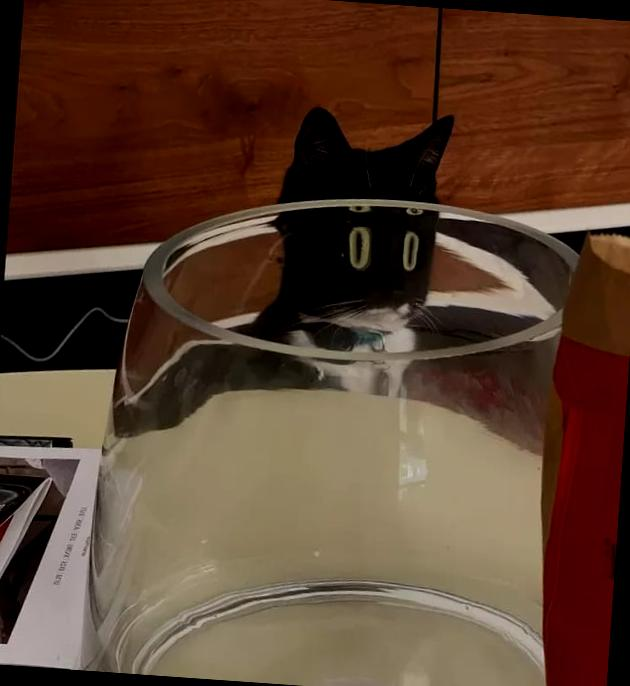macka: (112, 94, 454, 462)
